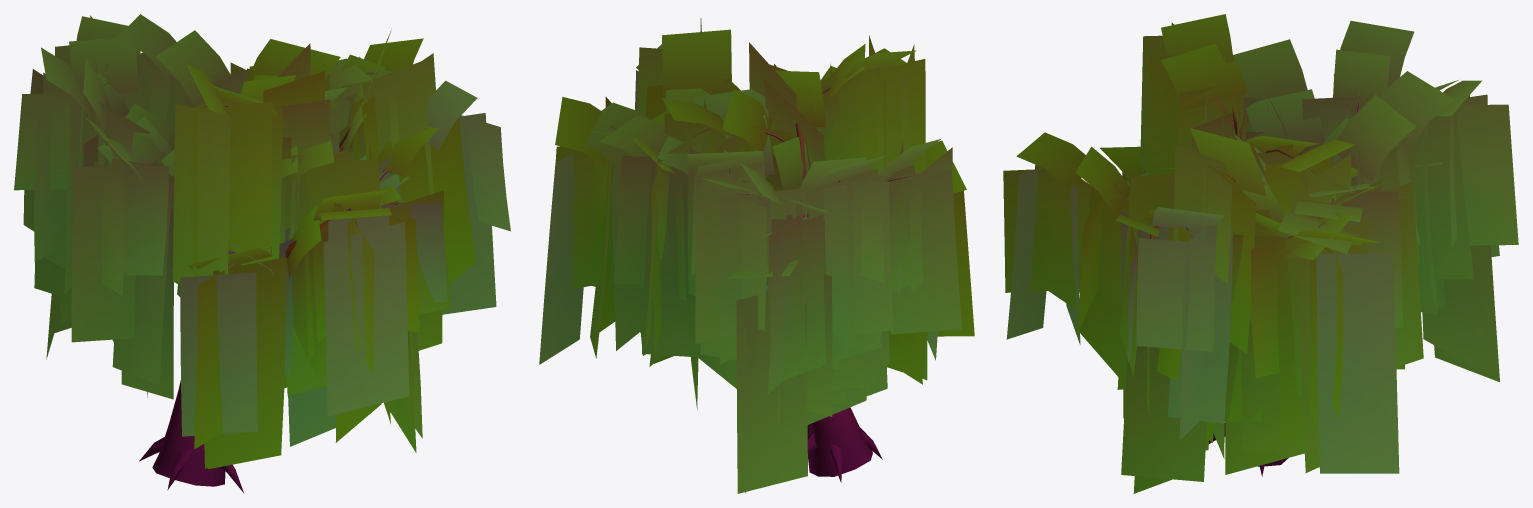
Rendered from willow_a.glb.
3 views of the same model, side by side, from view 1: azimuth 30°, elevation 25°; view 2: azimuth 150°, elevation 25°; view 3: azimuth 270°, elevation 25° (orthographic). The views are drawn at different scales.
Visible parts, largest first — view 1: willow_a_LOD0; view 2: willow_a_LOD0; view 3: willow_a_LOD0.
Boxes of the visible parts, box(x1,y1,x2,y2) form: willow_a_LOD0: box(14, 14, 510, 492); willow_a_LOD0: box(539, 18, 974, 493); willow_a_LOD0: box(1003, 14, 1518, 493).
Size of what is drawn, in the model's own units: 8.59 by 9.1 by 9.88.
